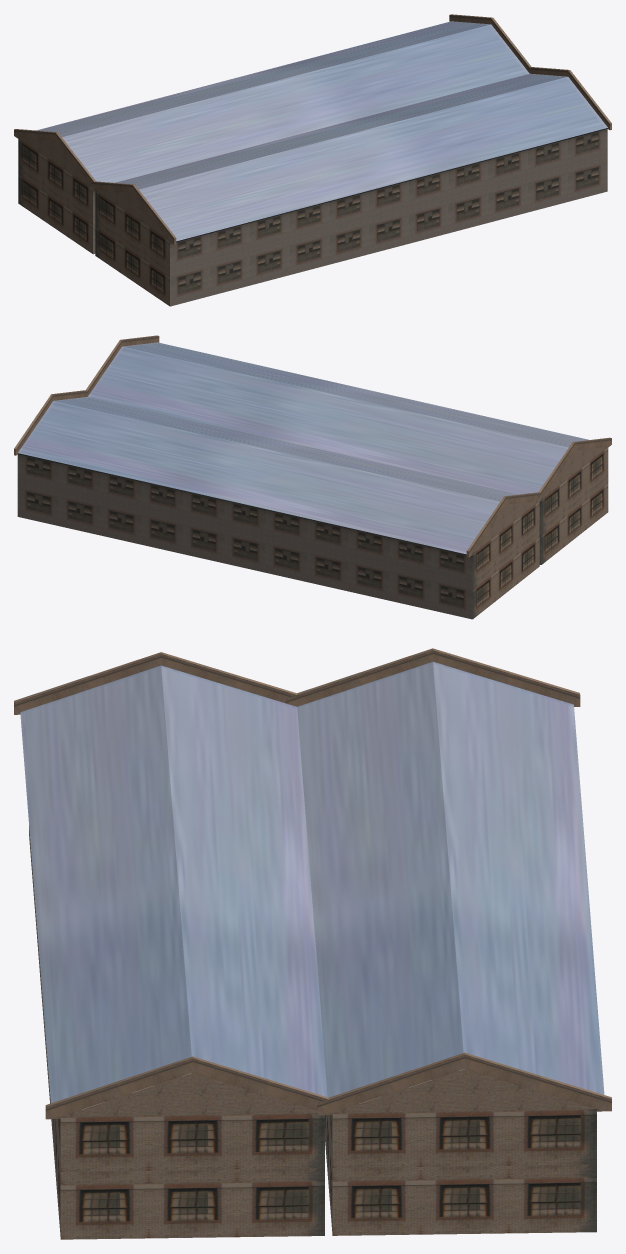
The model's file is side building29.FBX.
3 views of the same model, one above another, from view 1: azimuth 30°, elevation 25°; view 2: azimuth 150°, elevation 25°; view 3: azimuth 270°, elevation 25° (orthographic). The views are drawn at different scales.
Visible parts, largest first — view 1: Object22685; view 2: Object22685; view 3: Object22685.
Part boxes in pixels (left/top/right/bottom): Object22685: left=14, top=14, right=611, bottom=306; Object22685: left=14, top=335, right=611, bottom=619; Object22685: left=14, top=648, right=611, bottom=1239.
Size of the model in its own units: 64.94 by 39.63 by 13.12.
